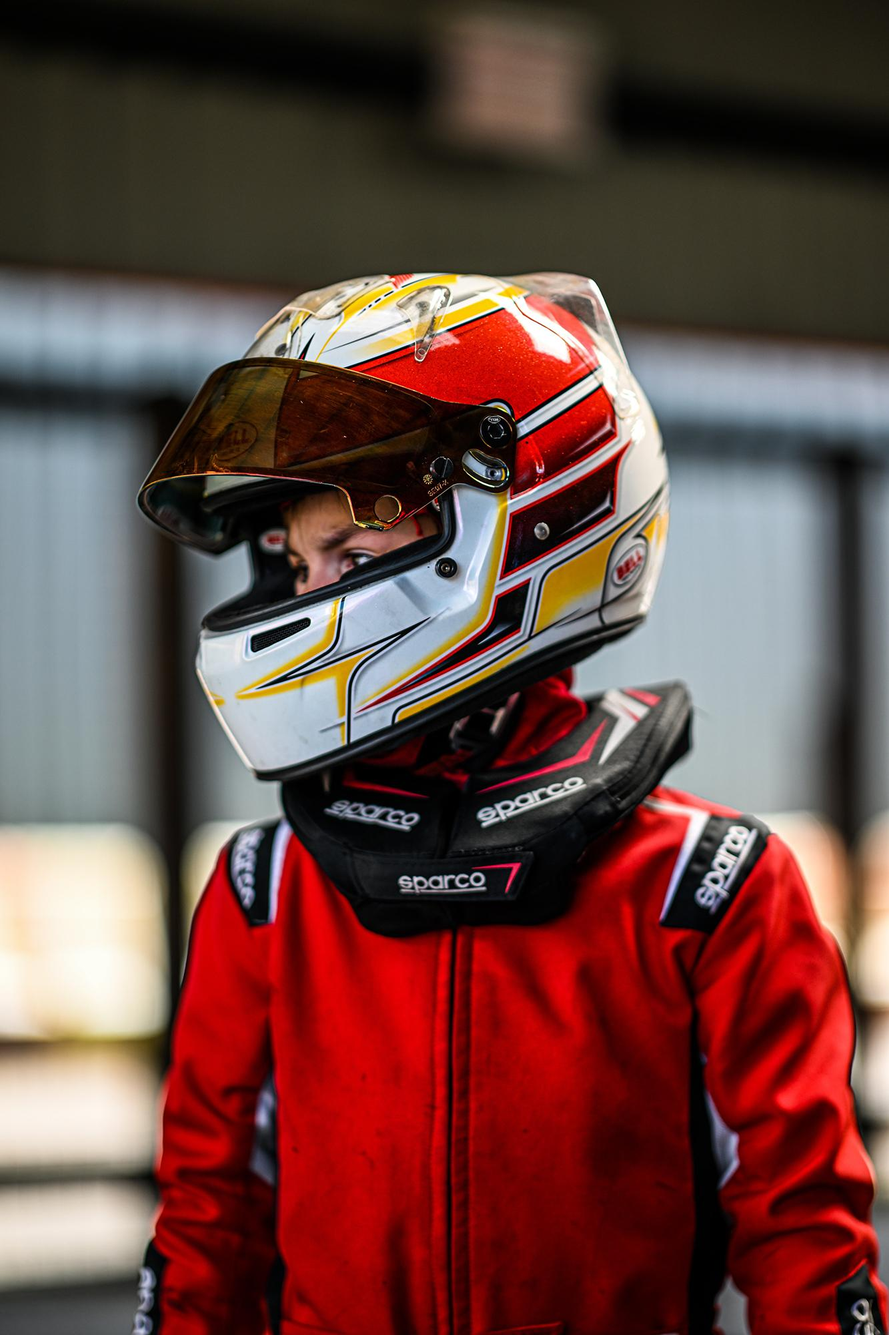helmet: (134, 267, 675, 786)
